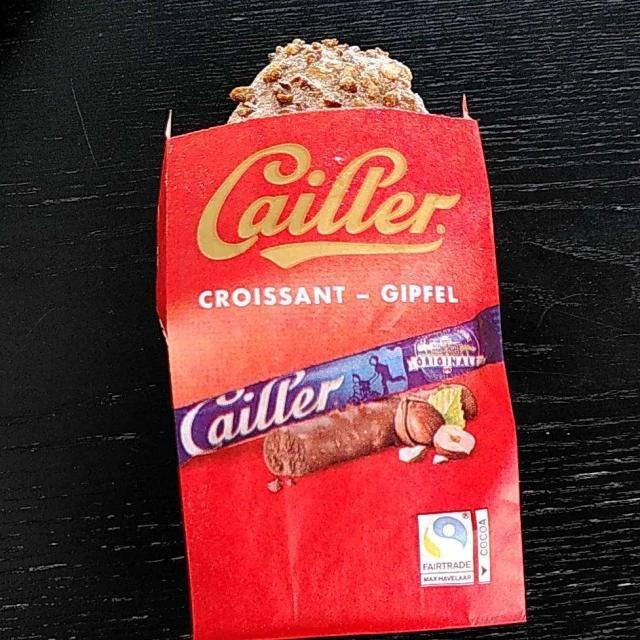croissant: (234, 38, 418, 118)
